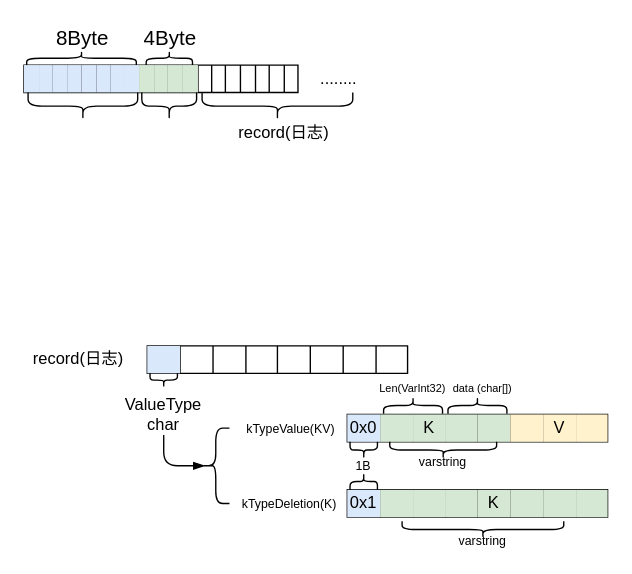
The diagram is 632 pixels wide and 574 high, and some of its shapes have lost their labels. The centre of each missing label's shape, as x and y in pixels:
"count FixInt32" goes at (168,105).
"Sequence FixInt64" goes at (82,105).
